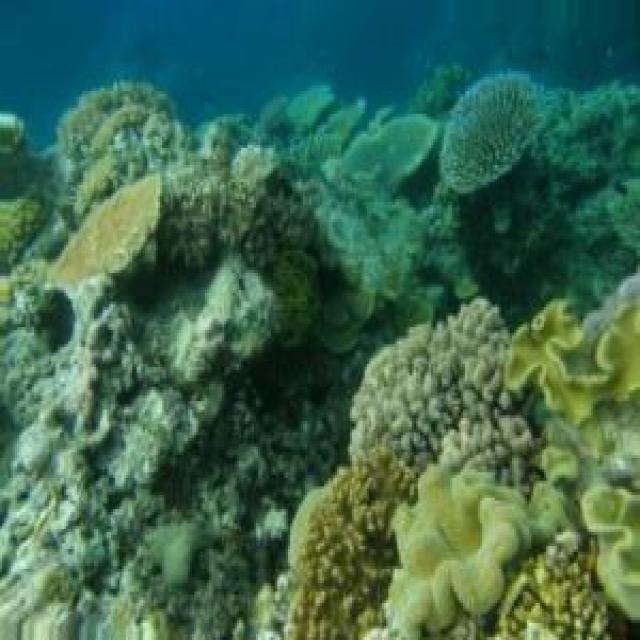healthy coral: (349, 300, 532, 482), (254, 447, 415, 638), (385, 467, 564, 638), (508, 273, 640, 424), (60, 82, 172, 214), (494, 528, 610, 638), (441, 73, 544, 194), (51, 176, 160, 282), (581, 488, 640, 621), (340, 117, 437, 189)
